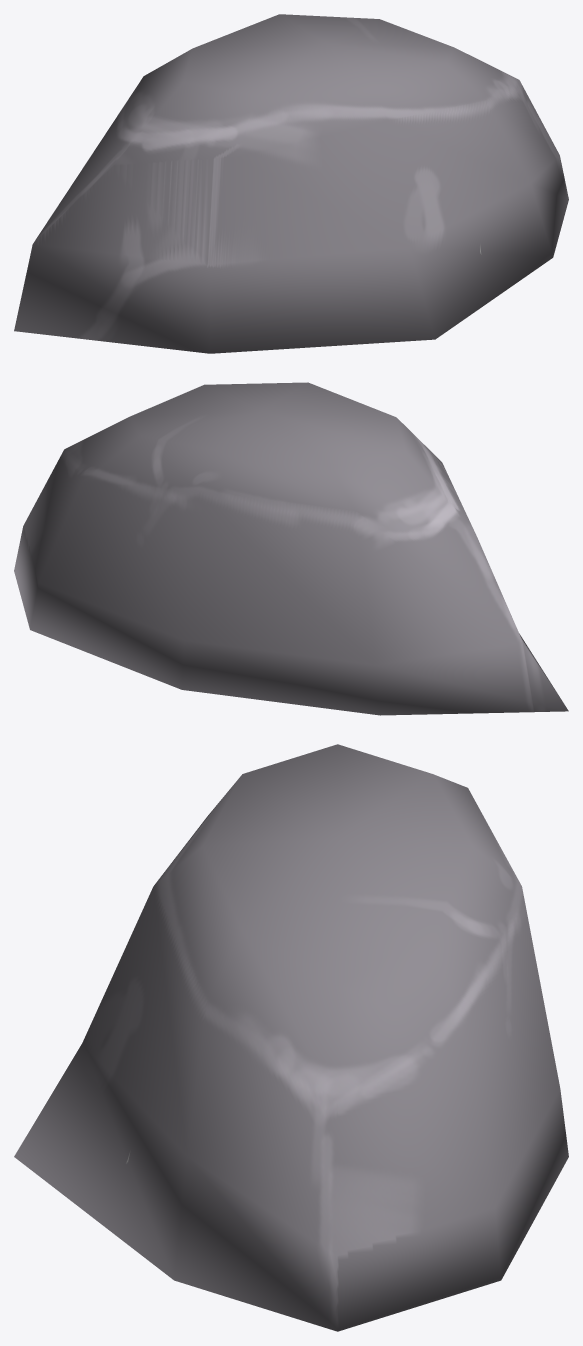
File: stone2.fbx
3 views of the same model, one above another, from view 1: azimuth 30°, elevation 25°; view 2: azimuth 150°, elevation 25°; view 3: azimuth 270°, elevation 25° (orthographic). The views are drawn at different scales.
Parts seen in each view (by area): view 1: stone.001; view 2: stone.001; view 3: stone.001.
Boxes of the visible parts, x1,y1,x2,y2 form: stone.001: [14, 14, 568, 353]; stone.001: [14, 382, 568, 715]; stone.001: [14, 744, 568, 1331].
Bounding box in the file's own units: 827 × 312 × 491.
